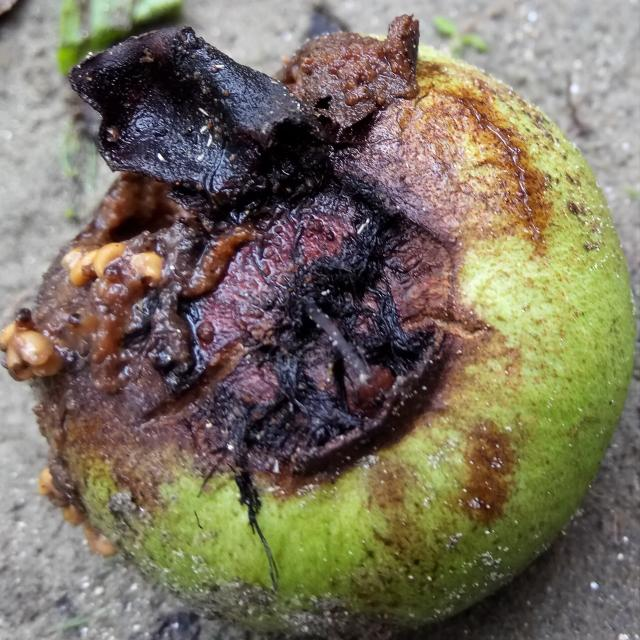Phytopthora: (0, 16, 632, 629)
